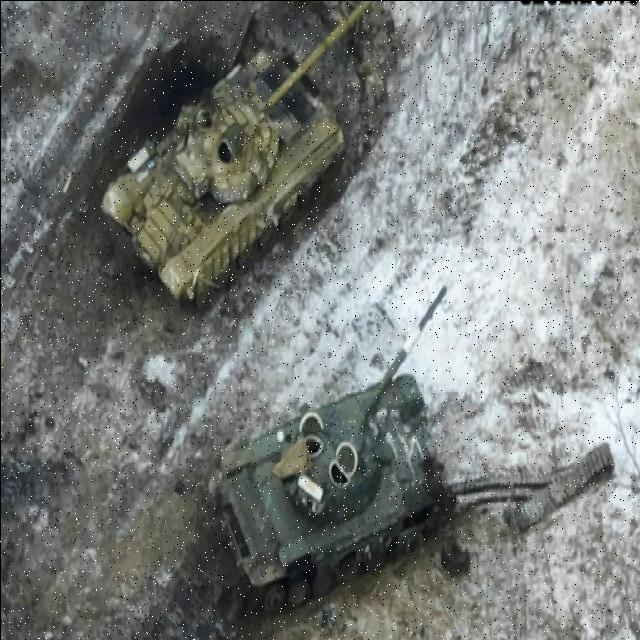TANK: (208, 271, 462, 607), (99, 2, 370, 304)
